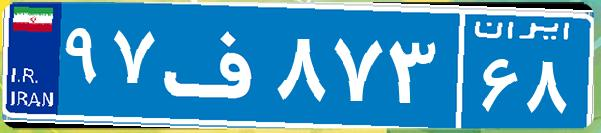3: (385, 28, 445, 110)
6: (475, 38, 525, 113)
7: (330, 28, 385, 110), (110, 28, 158, 105)
8: (273, 28, 330, 110), (525, 38, 570, 115)
9: (57, 26, 110, 107)
ف: (158, 15, 273, 115)
